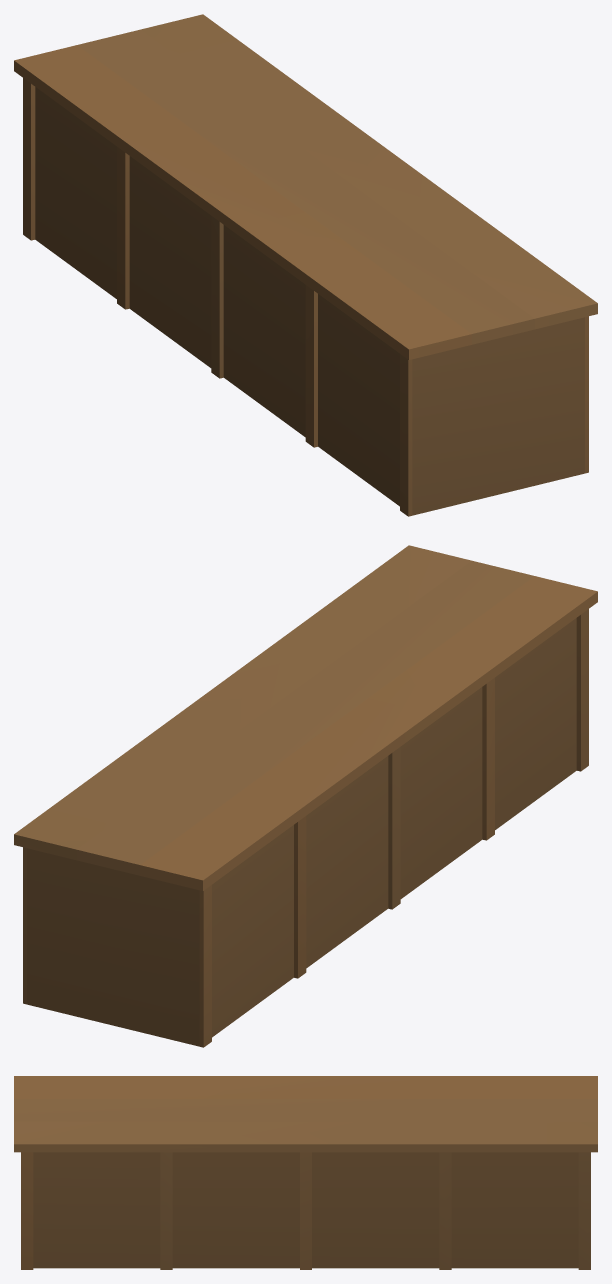
The model's file is stall.counter.oak.glb.
3 renders of one model, top to bottom at view 1: azimuth 30°, elevation 25°; view 2: azimuth 150°, elevation 25°; view 3: azimuth 270°, elevation 25°, orthographic. The views are drawn at different scales.
Visible parts, largest first — view 1: stall_counter_oak; view 2: stall_counter_oak; view 3: stall_counter_oak.
Boxes of the visible parts, x1=… form: stall_counter_oak: x1=14, y1=14, x2=597, y2=516; stall_counter_oak: x1=14, y1=545, x2=597, y2=1047; stall_counter_oak: x1=14, y1=1076, x2=597, y2=1269.
Size of what is drawn, in the model's own units: 0.922 by 0.8 by 3.34.
